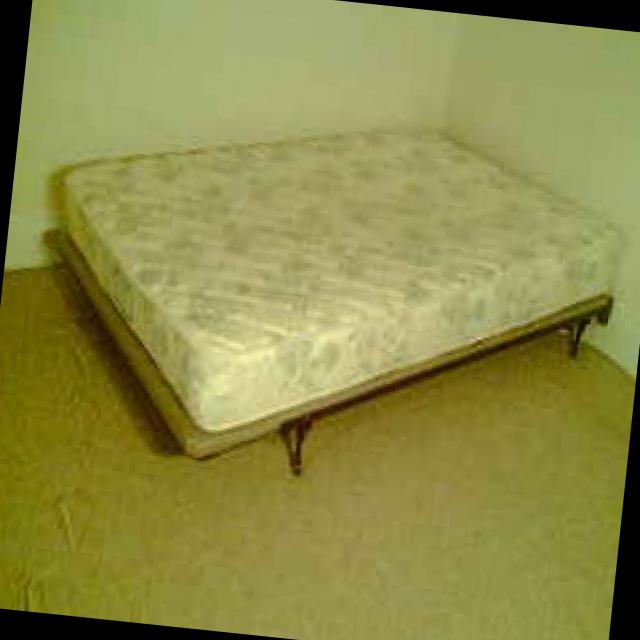bed -occluded-: (46, 127, 623, 476)
floor -X: (0, 234, 636, 640)
wall clock: (6, 0, 464, 271), (423, 13, 640, 377)
